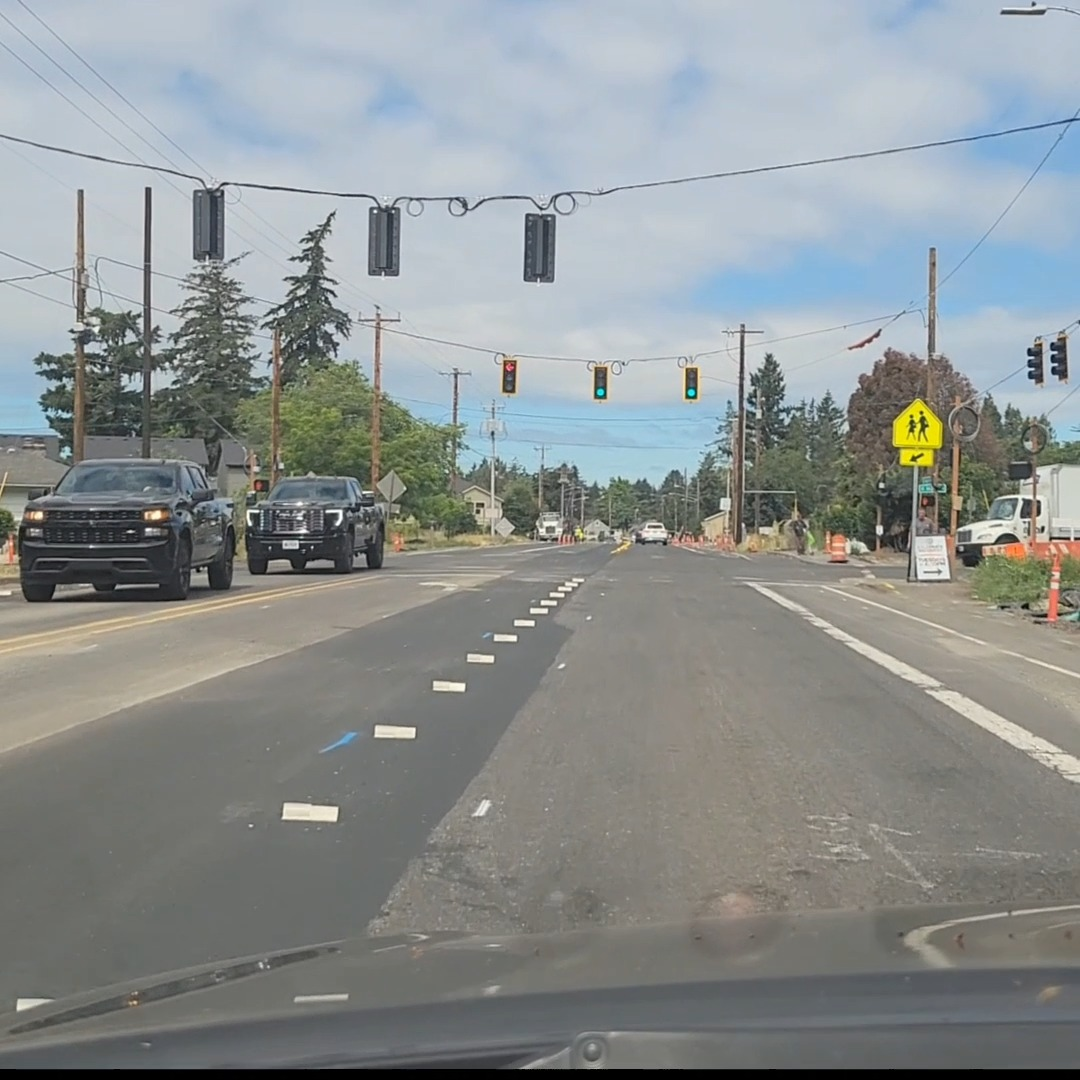car: (16, 457, 237, 600), (246, 475, 388, 575), (634, 521, 669, 545)
delineator: (1044, 551, 1060, 622), (6, 533, 15, 563)
